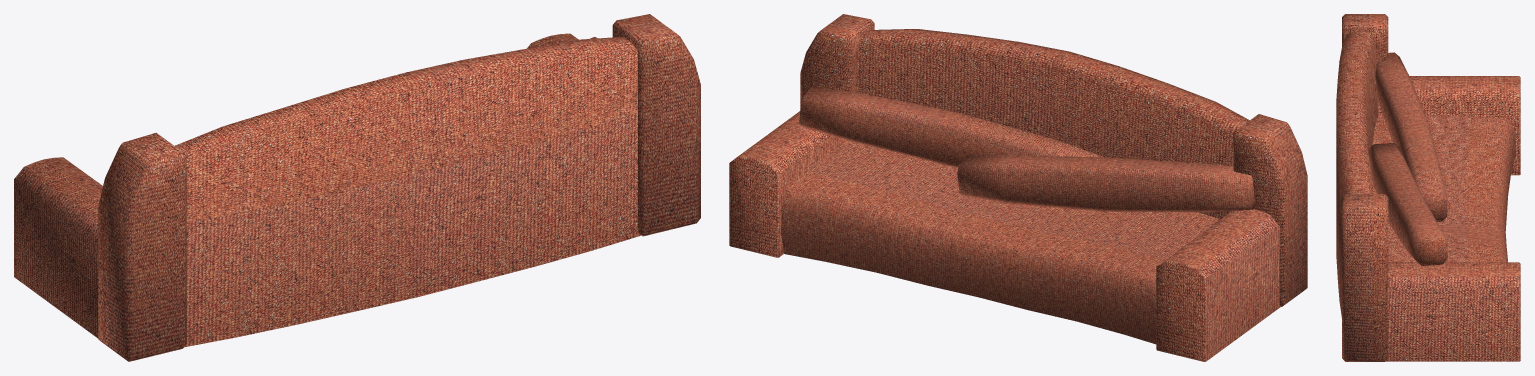
File: Sofa.fbx
3 renders of one model, left to right at view 1: azimuth 30°, elevation 25°; view 2: azimuth 150°, elevation 25°; view 3: azimuth 270°, elevation 25°, orthographic. The views are drawn at different scales.
Visible parts, largest first — view 1: Sofa; view 2: Sofa; view 3: Sofa.
Boxes of the visible parts, box(x1,y1,x2,y2) form: Sofa: box(14, 14, 700, 361); Sofa: box(729, 14, 1307, 361); Sofa: box(1336, 14, 1520, 361).
Size of the model in its own units: 1.02 by 0.3659 by 0.376.
1 material, 1 textured.
